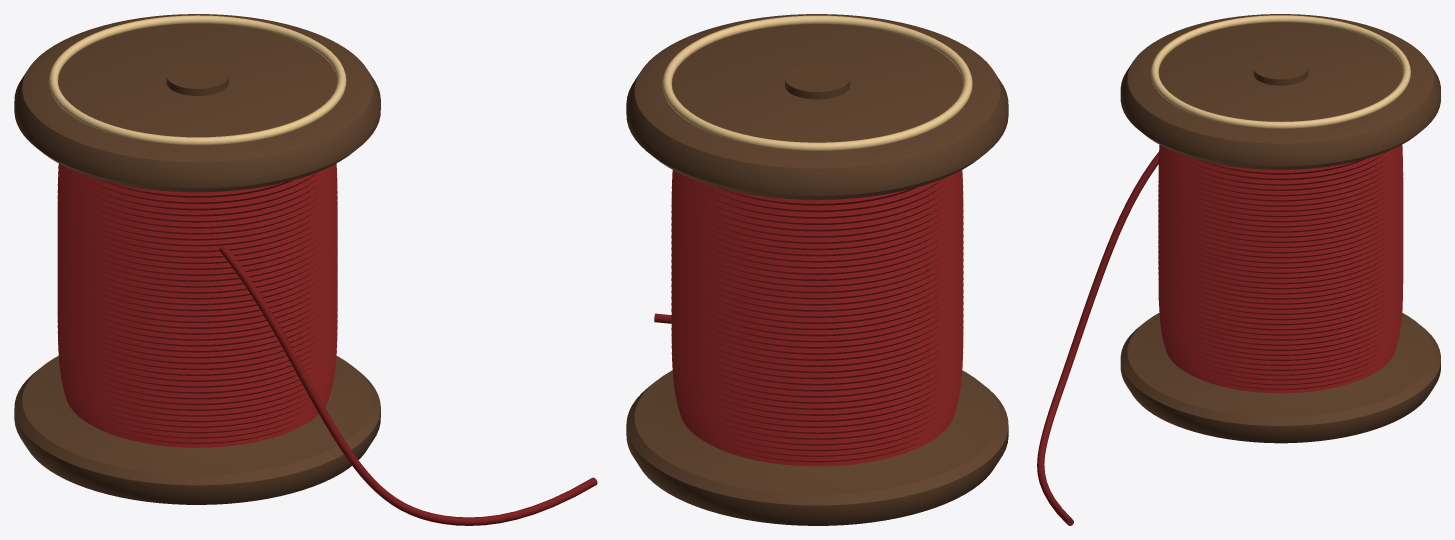
Rendered from spool.glb.
The picture shows the model from 3 angles, left to right: view 1: azimuth 30°, elevation 25°; view 2: azimuth 150°, elevation 25°; view 3: azimuth 270°, elevation 25°; orthographic projection. The views are drawn at different scales.
Visible parts, largest first — view 1: thread, flange_top, flange_bottom, ring, strand; view 2: thread, flange_top, flange_bottom, ring; view 3: thread, flange_top, flange_bottom, ring, strand.
Part boxes in pixels (box(x1,y1,x2,y2)): thread: box(57, 163, 337, 447); flange_top: box(14, 14, 380, 192); flange_bottom: box(14, 355, 380, 504); ring: box(48, 15, 346, 145); strand: box(219, 244, 597, 525); thread: box(671, 170, 963, 466); flange_top: box(626, 14, 1008, 199); flange_bottom: box(626, 370, 1008, 525); ring: box(662, 15, 972, 150); thread: box(1158, 145, 1403, 393); flange_top: box(1120, 14, 1440, 169); flange_bottom: box(1120, 312, 1440, 443); ring: box(1150, 15, 1410, 128); strand: box(1037, 152, 1158, 525).
Size of the model in its own units: 1.29 by 1.1 by 1.19.
